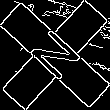N_SE: (23, 23, 87, 87)
